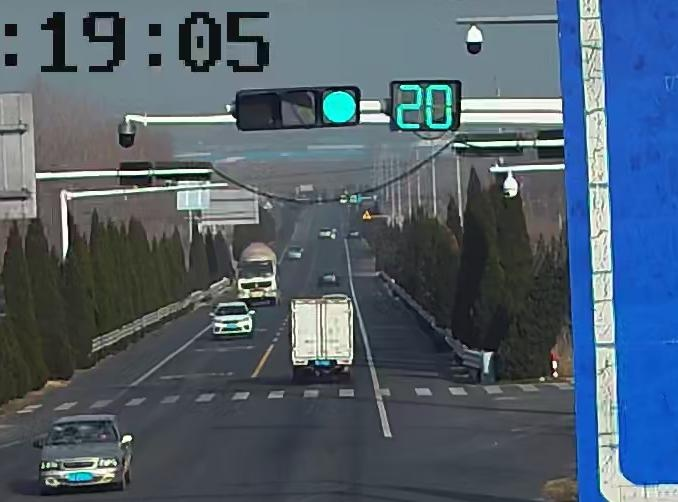green: (321, 90, 360, 125)
greentime: (393, 83, 456, 133)
